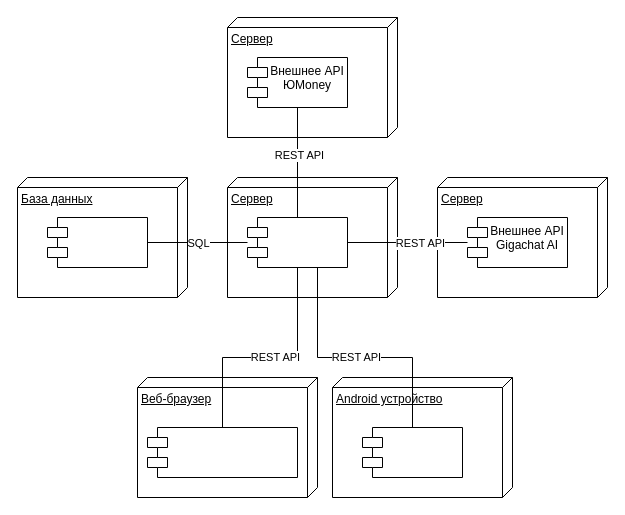
The diagram is 625 pixels wide and 515 high, and some of its shapes have lost their labels. Each missing label, with the centre of its shape:
Backend на Django: the point at 297,242
PostgreSQL: the point at 97,242
Мобильное приложение: the point at 412,452
Панель администрирования: the point at 222,452
